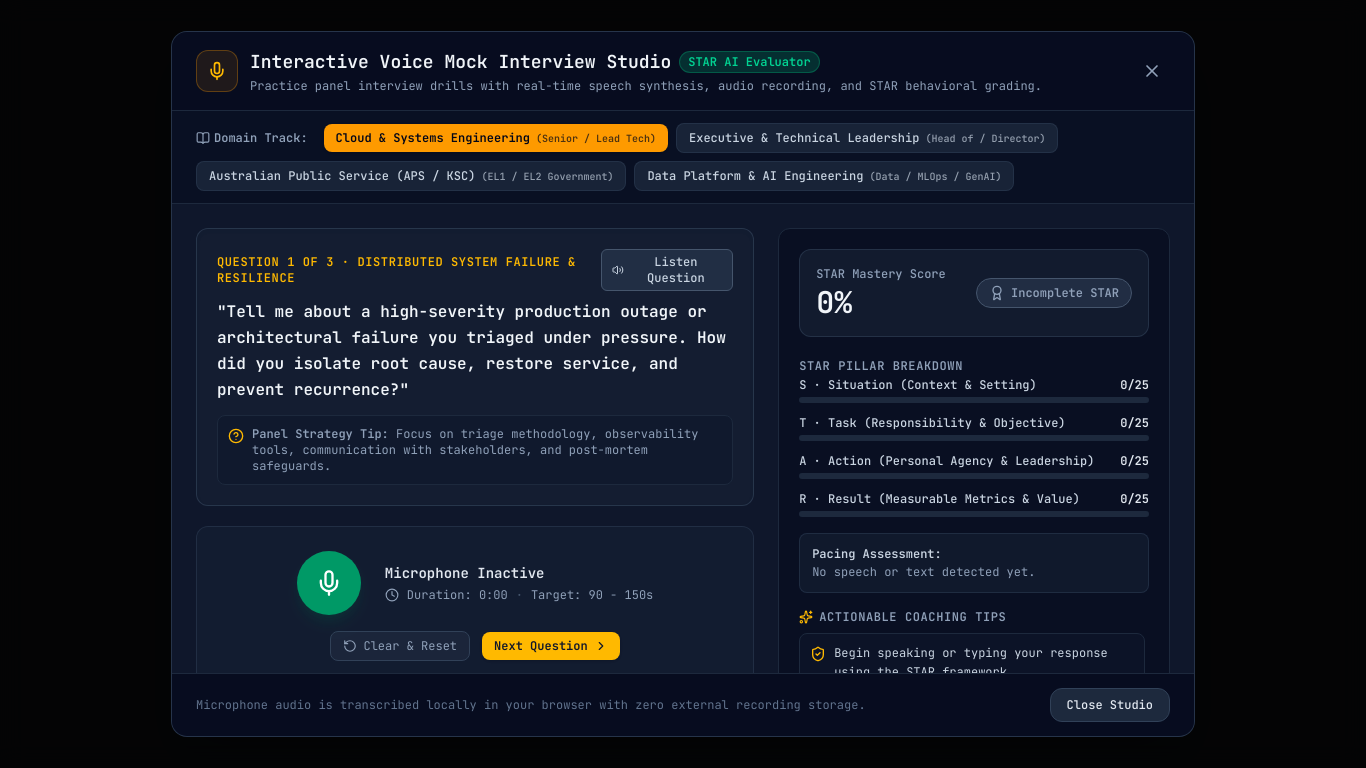
Scenario: VoiceMockInterviewModal Component › allows switching tracks and displays corresponding questions
Click the button "Australian Public Service (APS / KSC)(EL1 / EL2 Government)".
click(411, 176)  # box x1=196 y1=161 x2=626 y2=191
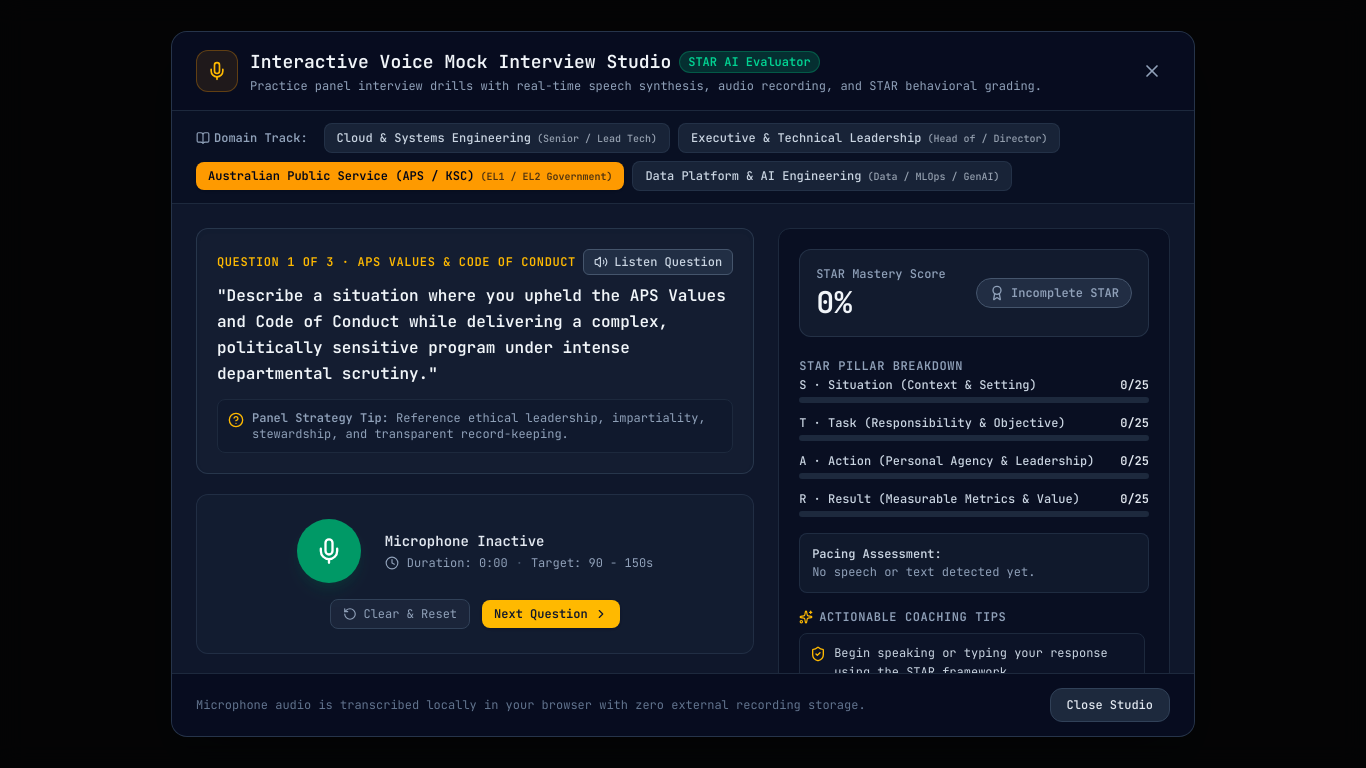
Expected: the text "Question 1 of 3 · APS Values & Code of Conduct" is shown, x1=217 y1=254 x2=576 y2=270
